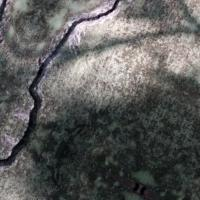crack: (0, 2, 117, 183)
